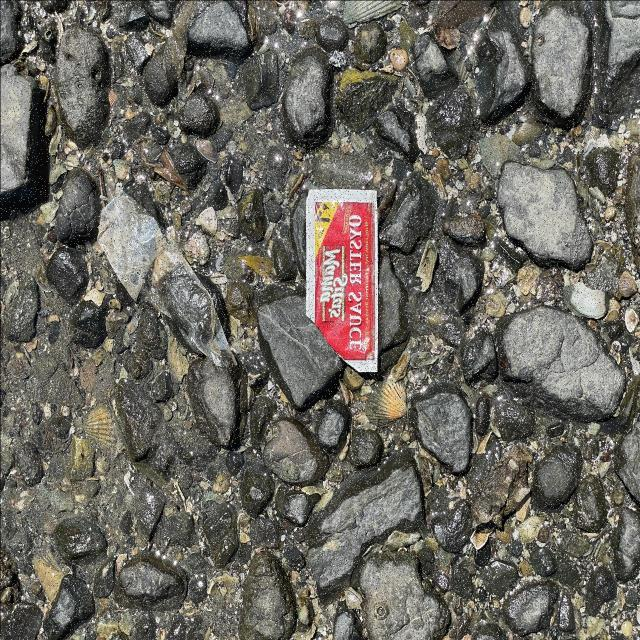plastic_waste: (306, 186, 381, 374)
